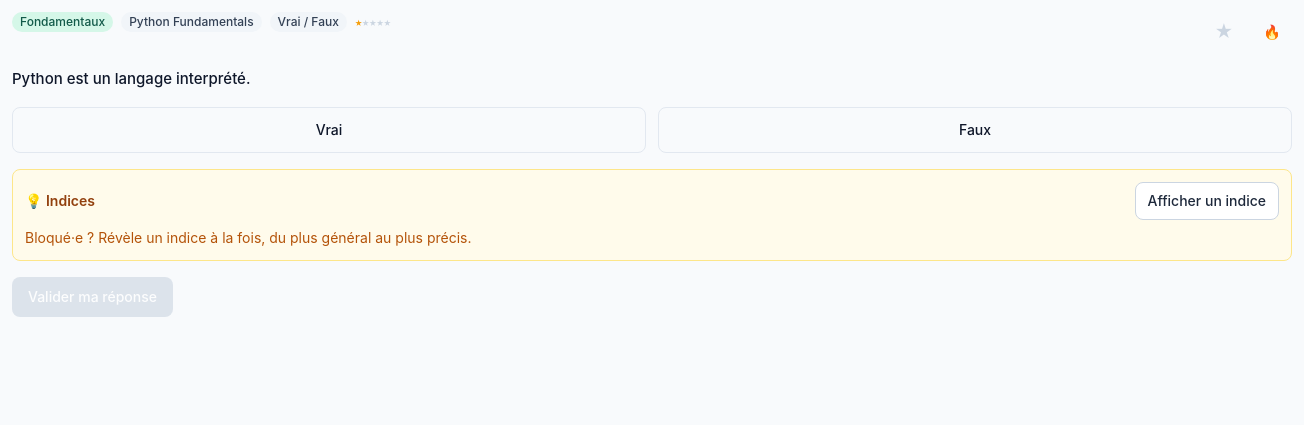
Test case: QuestionPlayer — true/false flow › reports an incorrect answer accurately
This screenshot has width=1304, height=425.
Click the button "Faux": (975, 130) [658,106,1292,152]
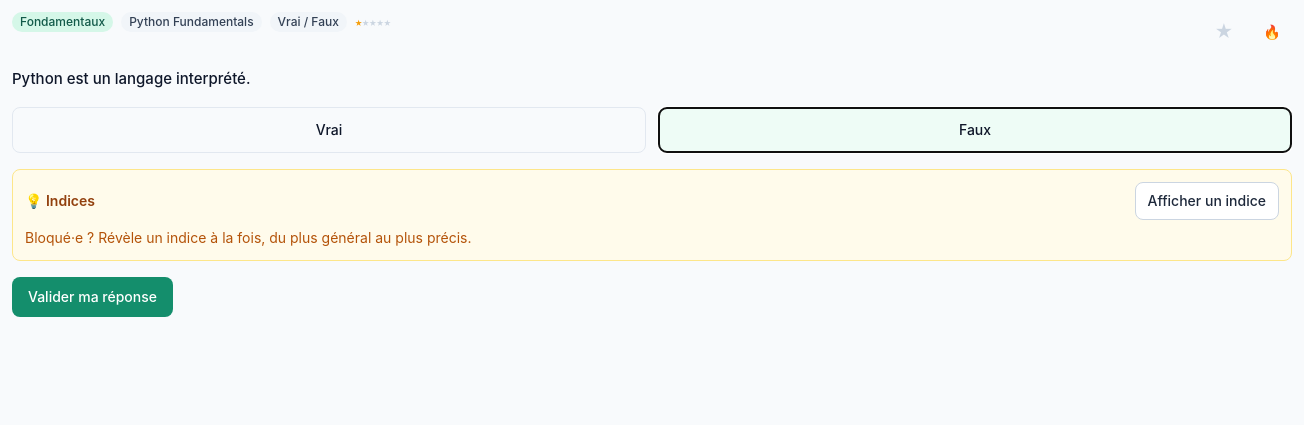
Click the button "Valider ma réponse": (92, 296) [12,276,173,316]
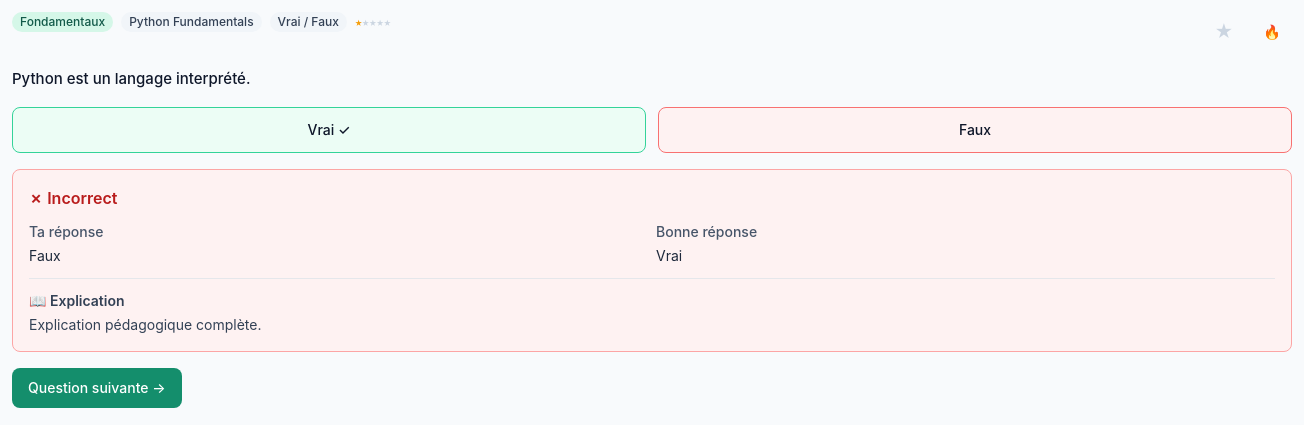
Now the text "✗ Incorrect" is shown, box [29,186,117,210]
